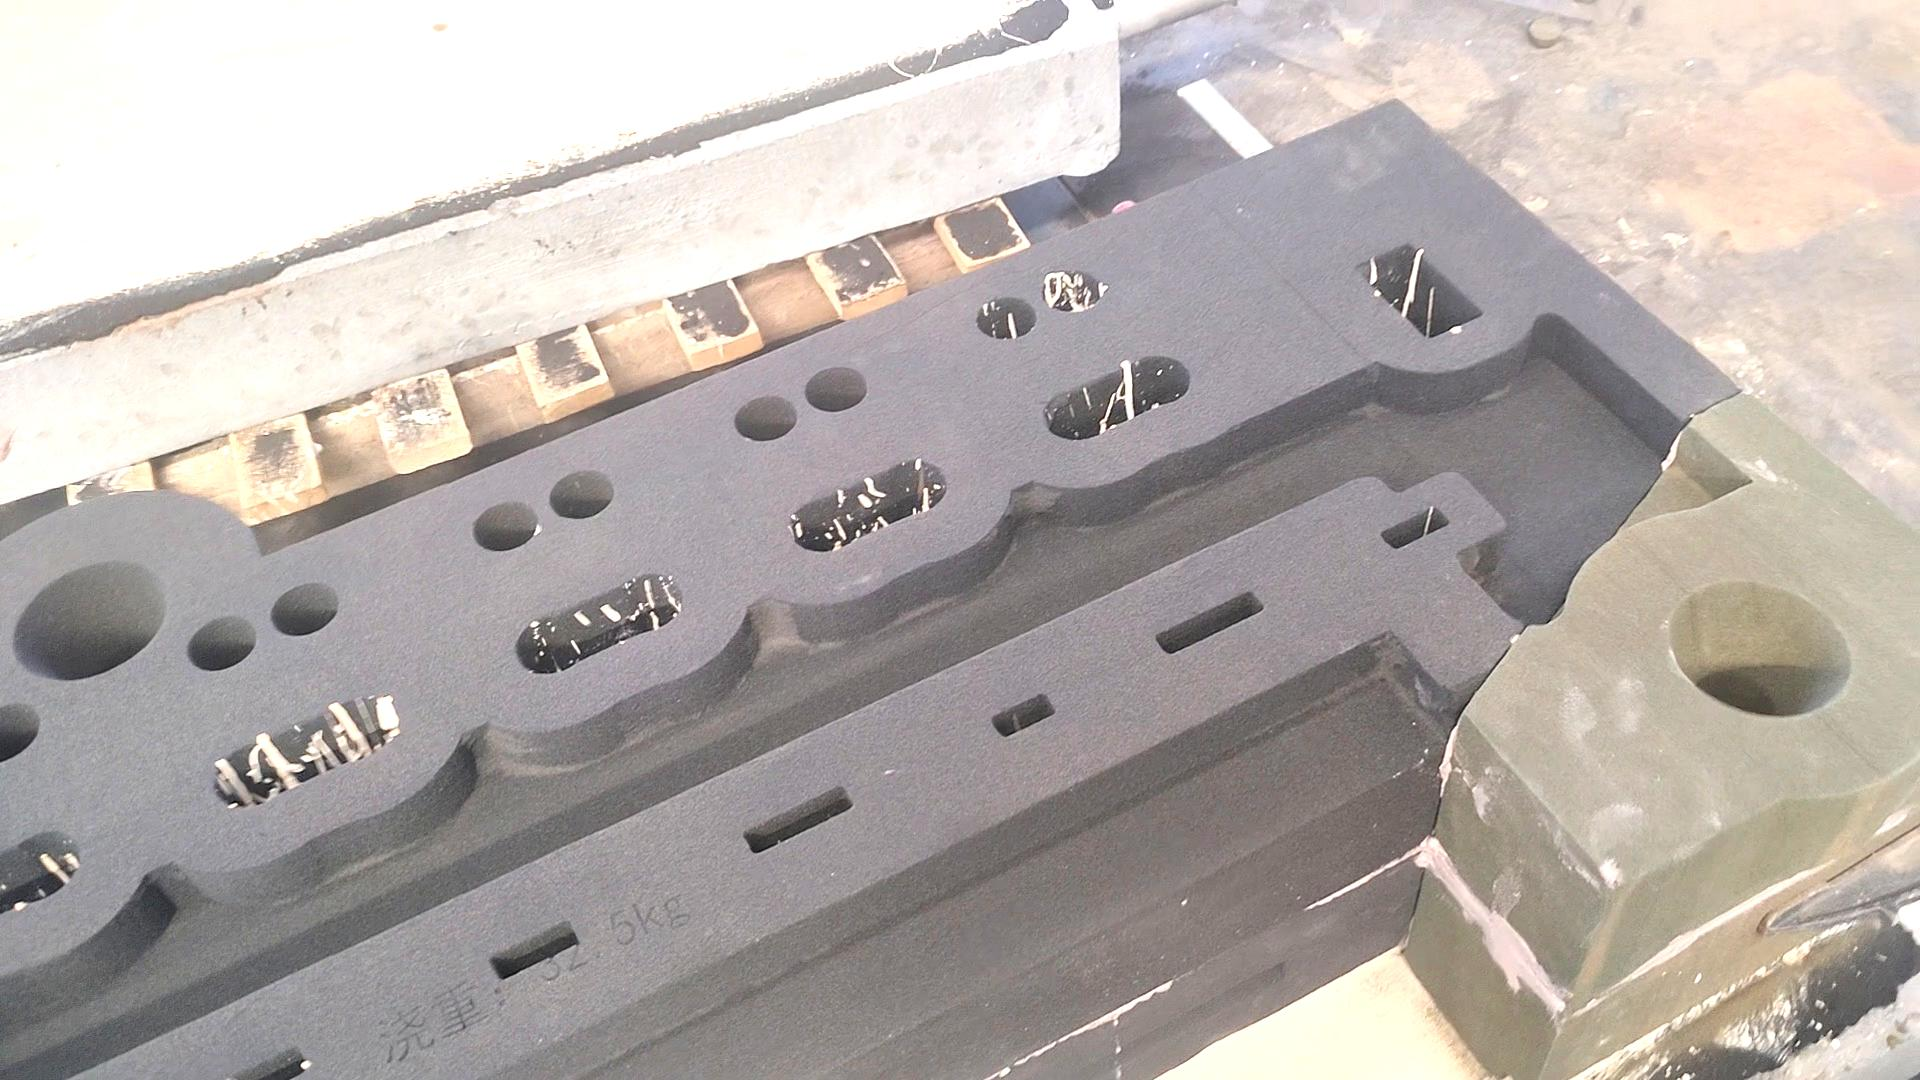pouring hole: (1669, 582, 1851, 716), (11, 559, 167, 680)
